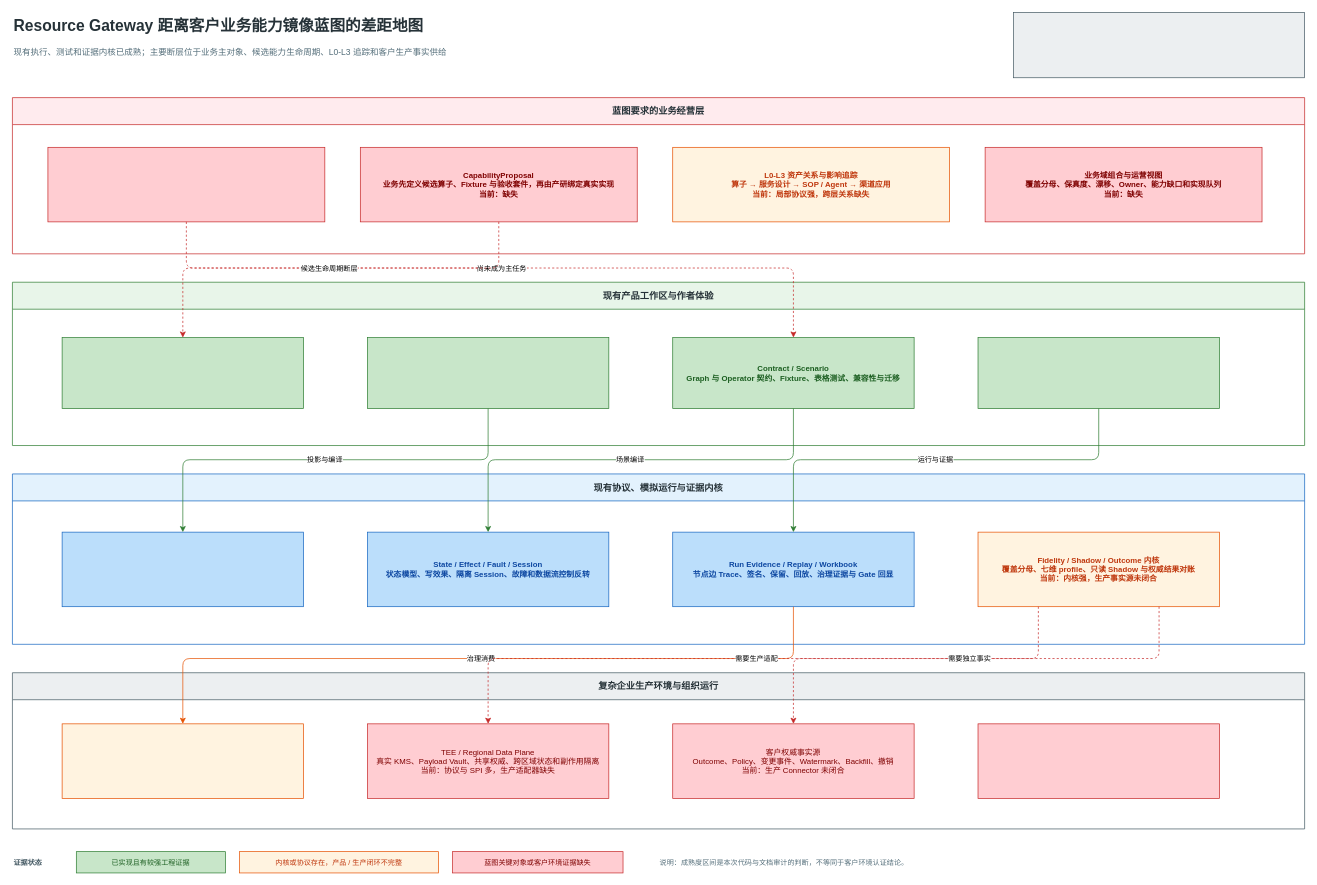
Some shapes in this 1317 by 885 pixel diagram are drawn without their labels. The shapes that lost their labels are listed below. From the top down, each one's centre as x and y in pixels, then its label:
At point (1159, 45): "三种成熟度必须分开看 技术内核：90-92 产品蓝图闭环：65-70 企业生产运行：50-58".
At point (186, 184): "DomainCapabilityPackage 客户问题、风险、契约、场景、解决方案、Outcome 的业务主对象 当前：缺失".
At point (182, 373): "Libraries 算子库与 Built-in Function 发现、推断、测试、提交".
At point (488, 373): "Author Workspace v2 Schema 约束画布、DSL 导入、保存、冲突恢复、Deep Link".
At point (1098, 373): "Rehearsals 批量演练、首个根因、重试、证据、Workbook 与 Remediation".
At point (182, 569): "CapabilitySnapshot / Closure / MirrorPlan 版本化、内容寻址、完整企业作用域、依赖冻结".
At point (182, 760): "ANEKE 治理接入 协议、导出、Workbook、Gate、事件已具备 包级 Registry 与报告回流待补".
At point (1098, 760): "环境与组织认证 PostgreSQL HA、网络分区、灾备、WORM、真实用户与两团队周期 当前：未完成".
